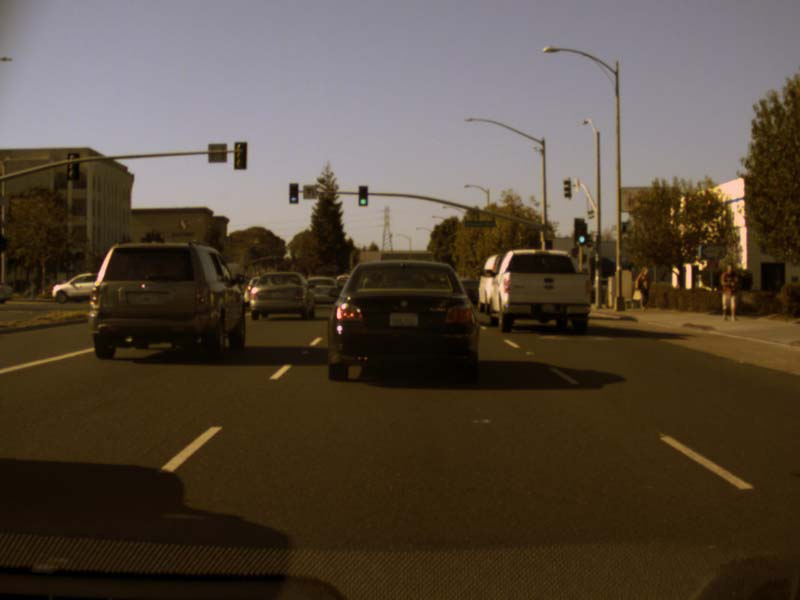Green: (289, 183, 298, 204), (358, 185, 367, 205), (578, 223, 586, 244)
